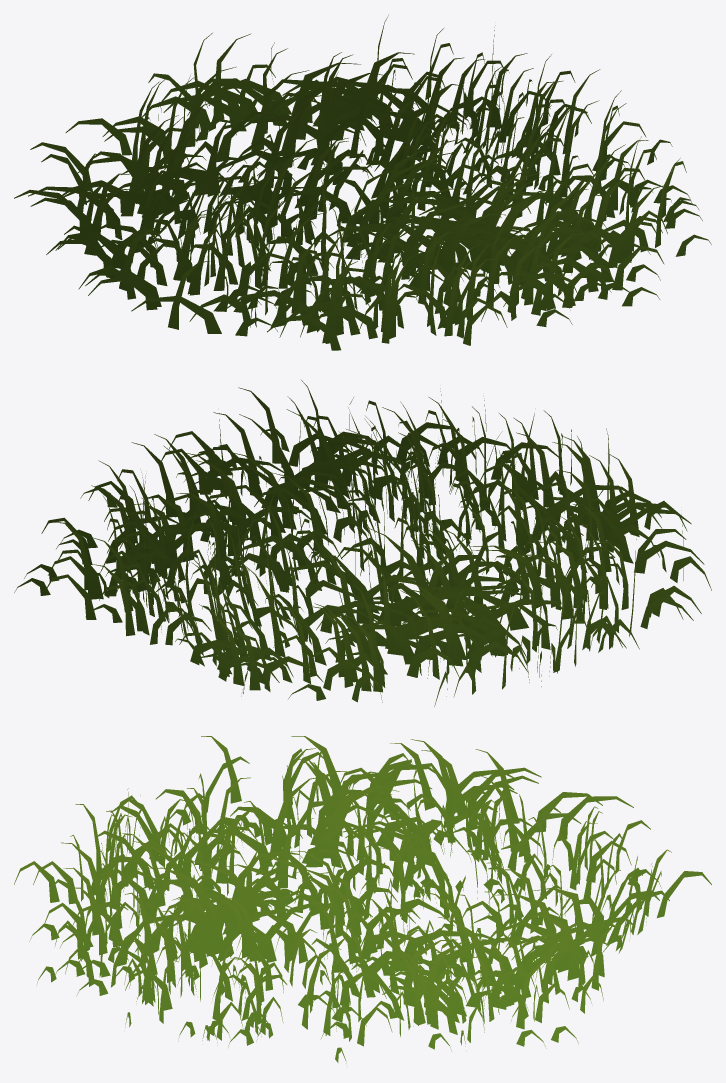
Rendered from MDL_Grass_02.fbx.
3 views of the same model, one above another, from view 1: azimuth 30°, elevation 25°; view 2: azimuth 150°, elevation 25°; view 3: azimuth 270°, elevation 25° (orthographic).
Visible parts, largest first — view 1: GrassClump_B; view 2: GrassClump_B; view 3: GrassClump_B.
Boxes of the visible parts, <box> form: GrassClump_B: <box>14,15,711,350</box>; GrassClump_B: <box>14,380,711,706</box>; GrassClump_B: <box>14,736,711,1063</box>.
Size of the model in its own units: 95.15 by 11.3 by 94.09.
